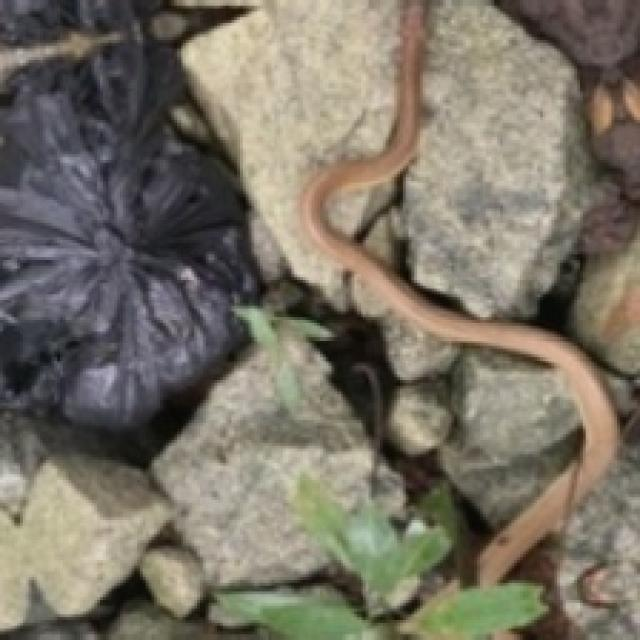king cobra: (297, 0, 617, 583)
